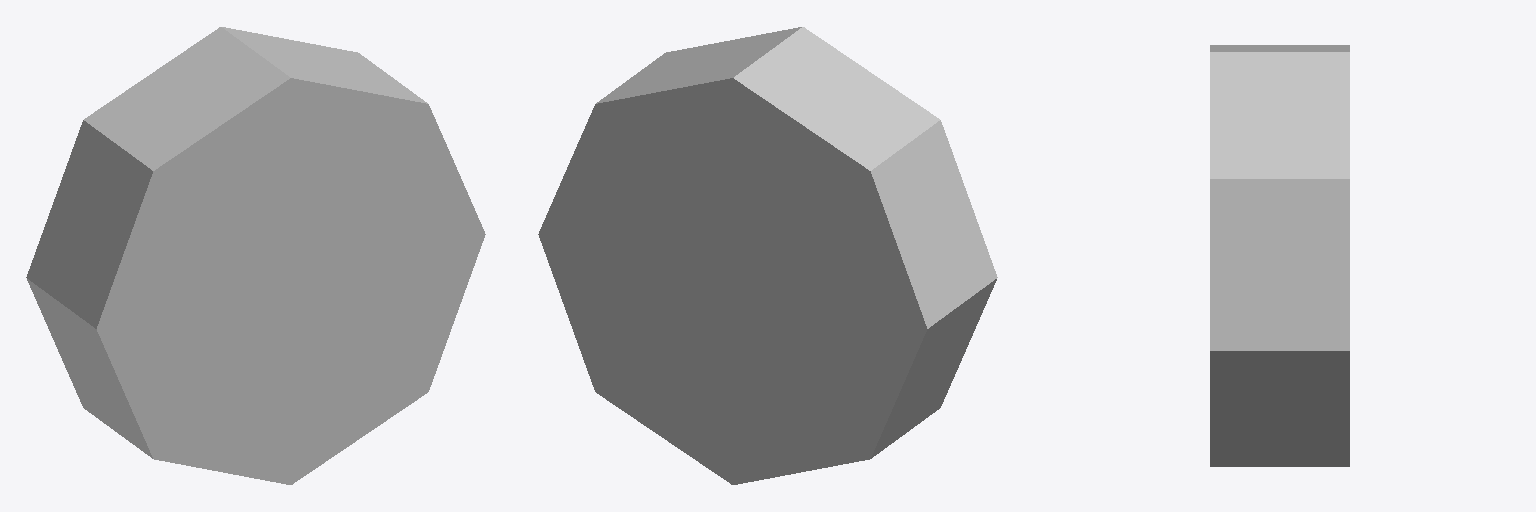
Rendered from ss_pipe_flange_prone.obj.
3 renders of one model, left to right at view 1: azimuth 30°, elevation 25°; view 2: azimuth 150°, elevation 25°; view 3: azimuth 270°, elevation 25°, orthographic.
Visible parts, largest first — view 1: ss_pipe_flange_prone_Cylinder.001; view 2: ss_pipe_flange_prone_Cylinder.001; view 3: ss_pipe_flange_prone_Cylinder.001.
Boxes of the visible parts, x1,y1,x2,y2 form: ss_pipe_flange_prone_Cylinder.001: [26, 27, 485, 484]; ss_pipe_flange_prone_Cylinder.001: [538, 27, 997, 484]; ss_pipe_flange_prone_Cylinder.001: [1210, 45, 1349, 466].
Bounding box in the file's own units: 1 × 1 × 0.3125.